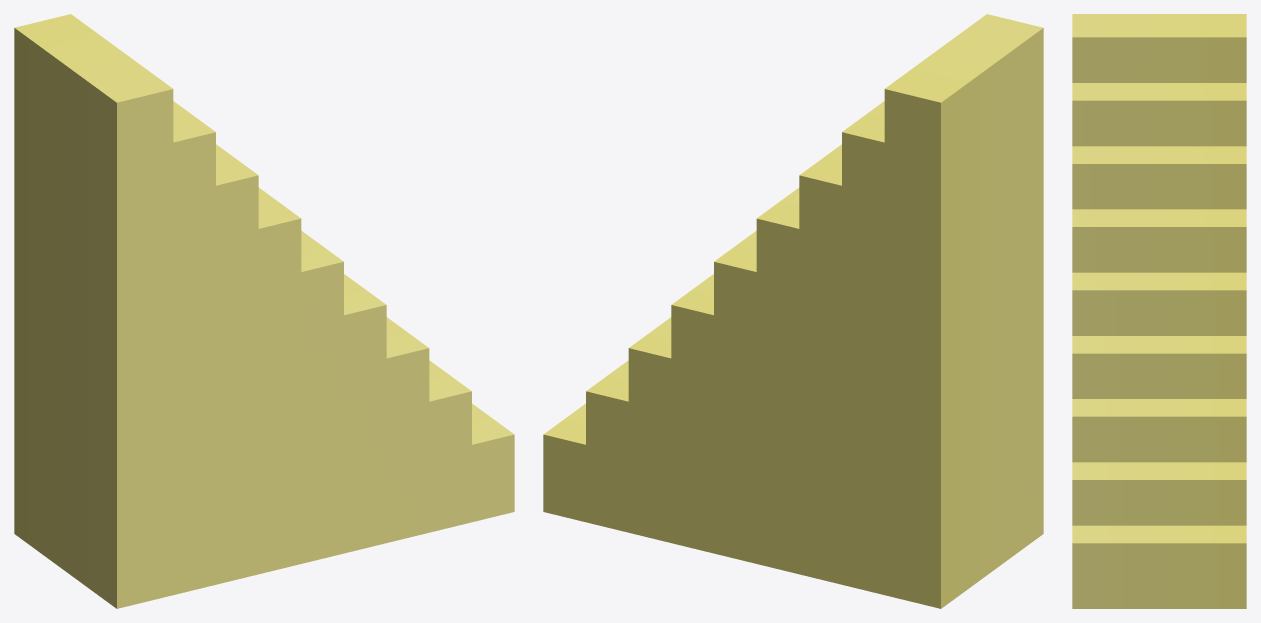
File: SM_Steet_House_F1_Stain.fbx
3 renders of one model, left to right at view 1: azimuth 30°, elevation 25°; view 2: azimuth 150°, elevation 25°; view 3: azimuth 270°, elevation 25°, orthographic. The views are drawn at different scales.
Parts seen in each view (by area): view 1: Steet_House_F1_Stair_mash.002; view 2: Steet_House_F1_Stair_mash.002; view 3: Steet_House_F1_Stair_mash.002.
Part boxes in pixels (left/top/right/bottom): Steet_House_F1_Stair_mash.002: left=14, top=14, right=514, bottom=608; Steet_House_F1_Stair_mash.002: left=543, top=14, right=1043, bottom=608; Steet_House_F1_Stair_mash.002: left=1072, top=14, right=1246, bottom=608.
Size of the model in its own units: 2.42 by 2.94 by 1.08.
